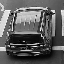mobil: (5, 6, 53, 56)
